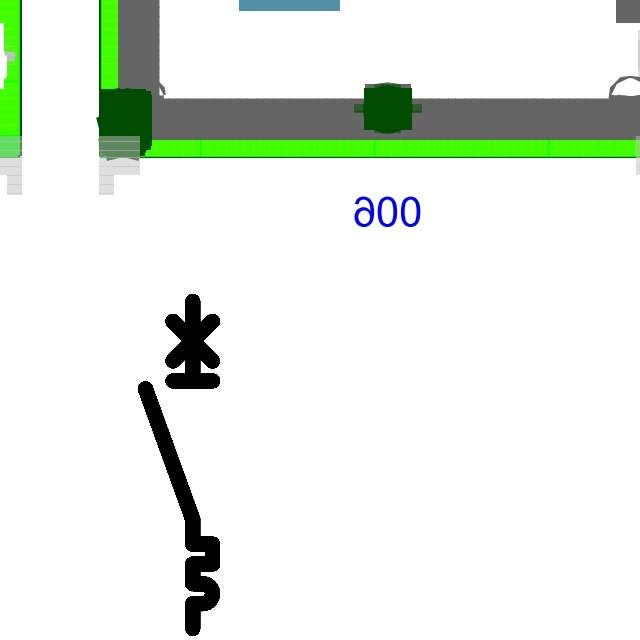interruptor_termomagnetico: (137, 293, 221, 637)
